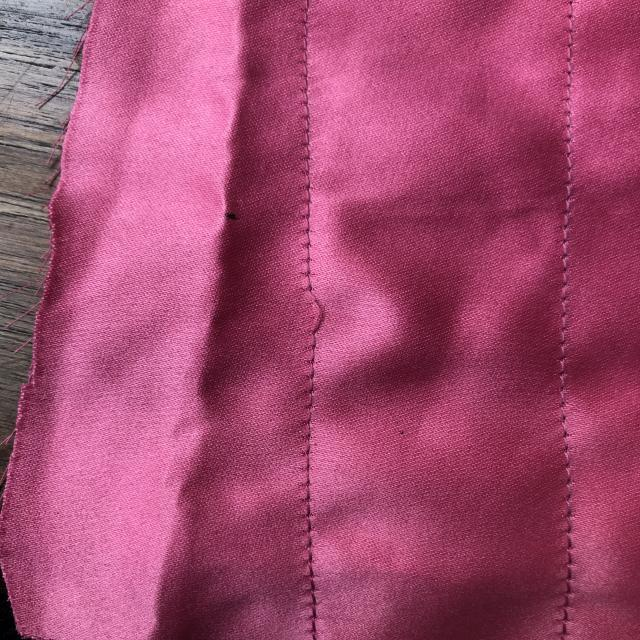skip: (291, 277, 353, 351)
